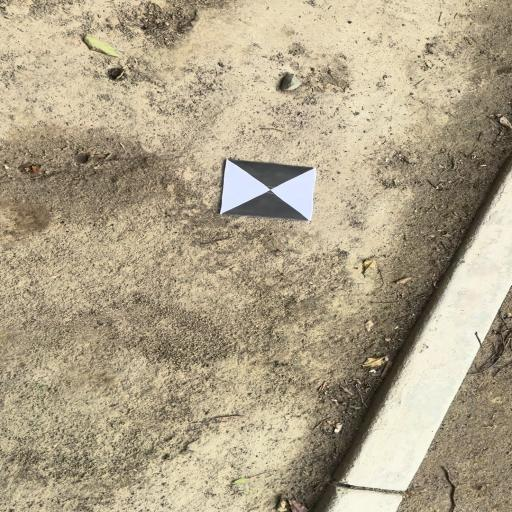target: (220, 159, 315, 220)
